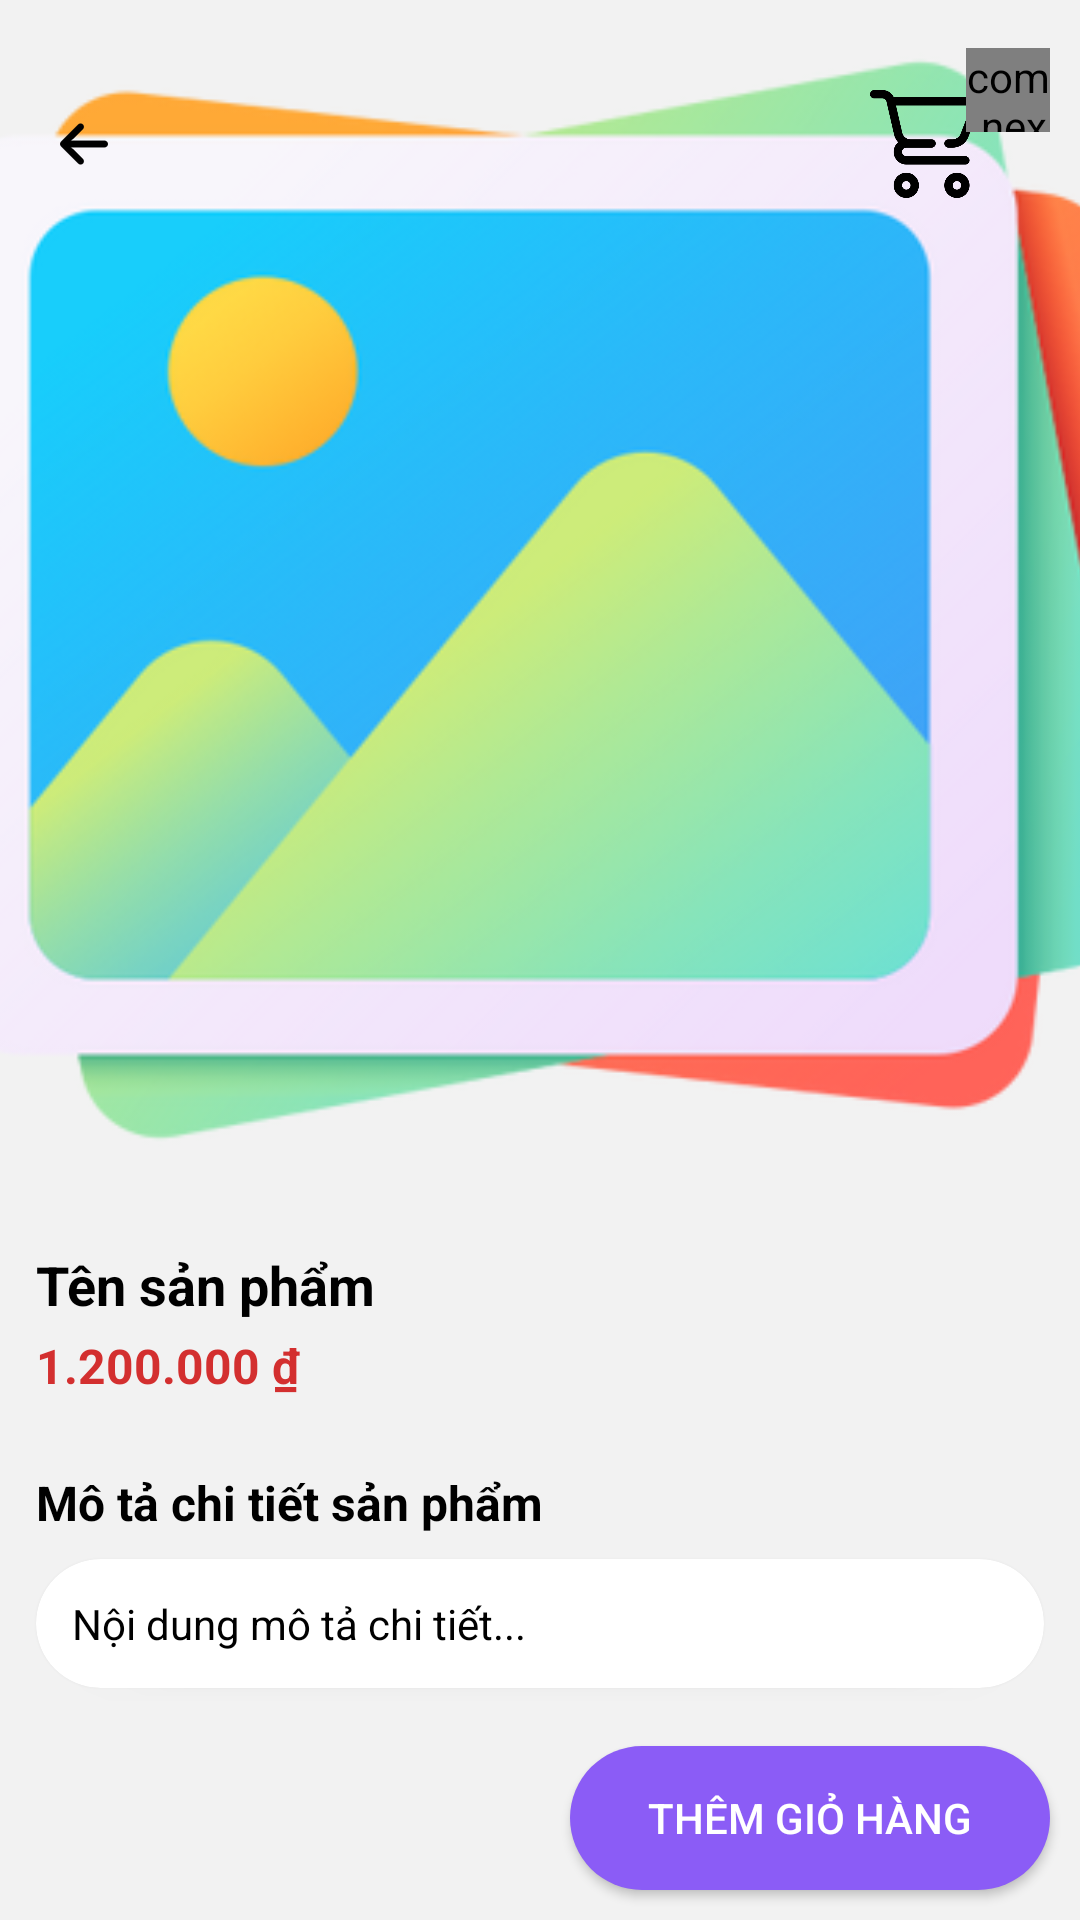

Icon click points for this 1080*1920 phone screenshot, format (x=x, y=y):
gio hang: (x=924, y=144)
